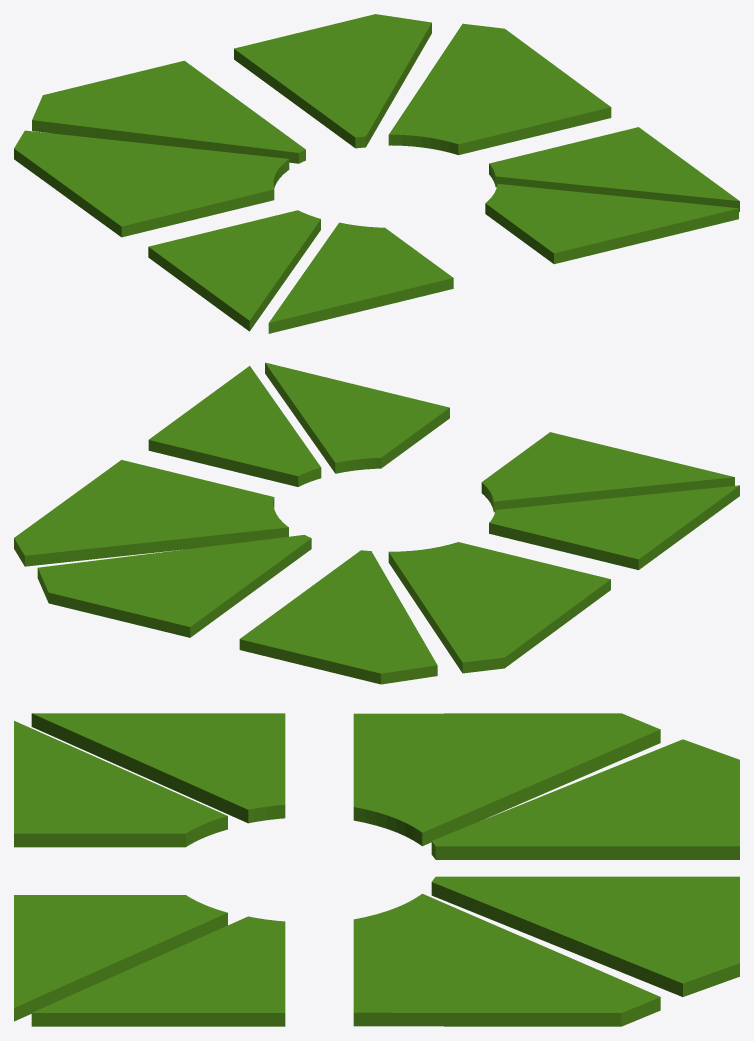
Rendered from squarecenter.gltf.
3 views of the same model, one above another, from view 1: azimuth 30°, elevation 25°; view 2: azimuth 150°, elevation 25°; view 3: azimuth 270°, elevation 25° (orthographic). The views are drawn at different scales.
Visible parts, largest first — view 1: Plane.001; view 2: Plane.001; view 3: Plane.001.
Part boxes in pixels (box(x1,y1,x2,y2)): Plane.001: box(14, 14, 739, 333); Plane.001: box(14, 362, 739, 684); Plane.001: box(14, 713, 739, 1026).
Bounding box in the file's own units: 3.29 × 0.0695 × 3.36.
